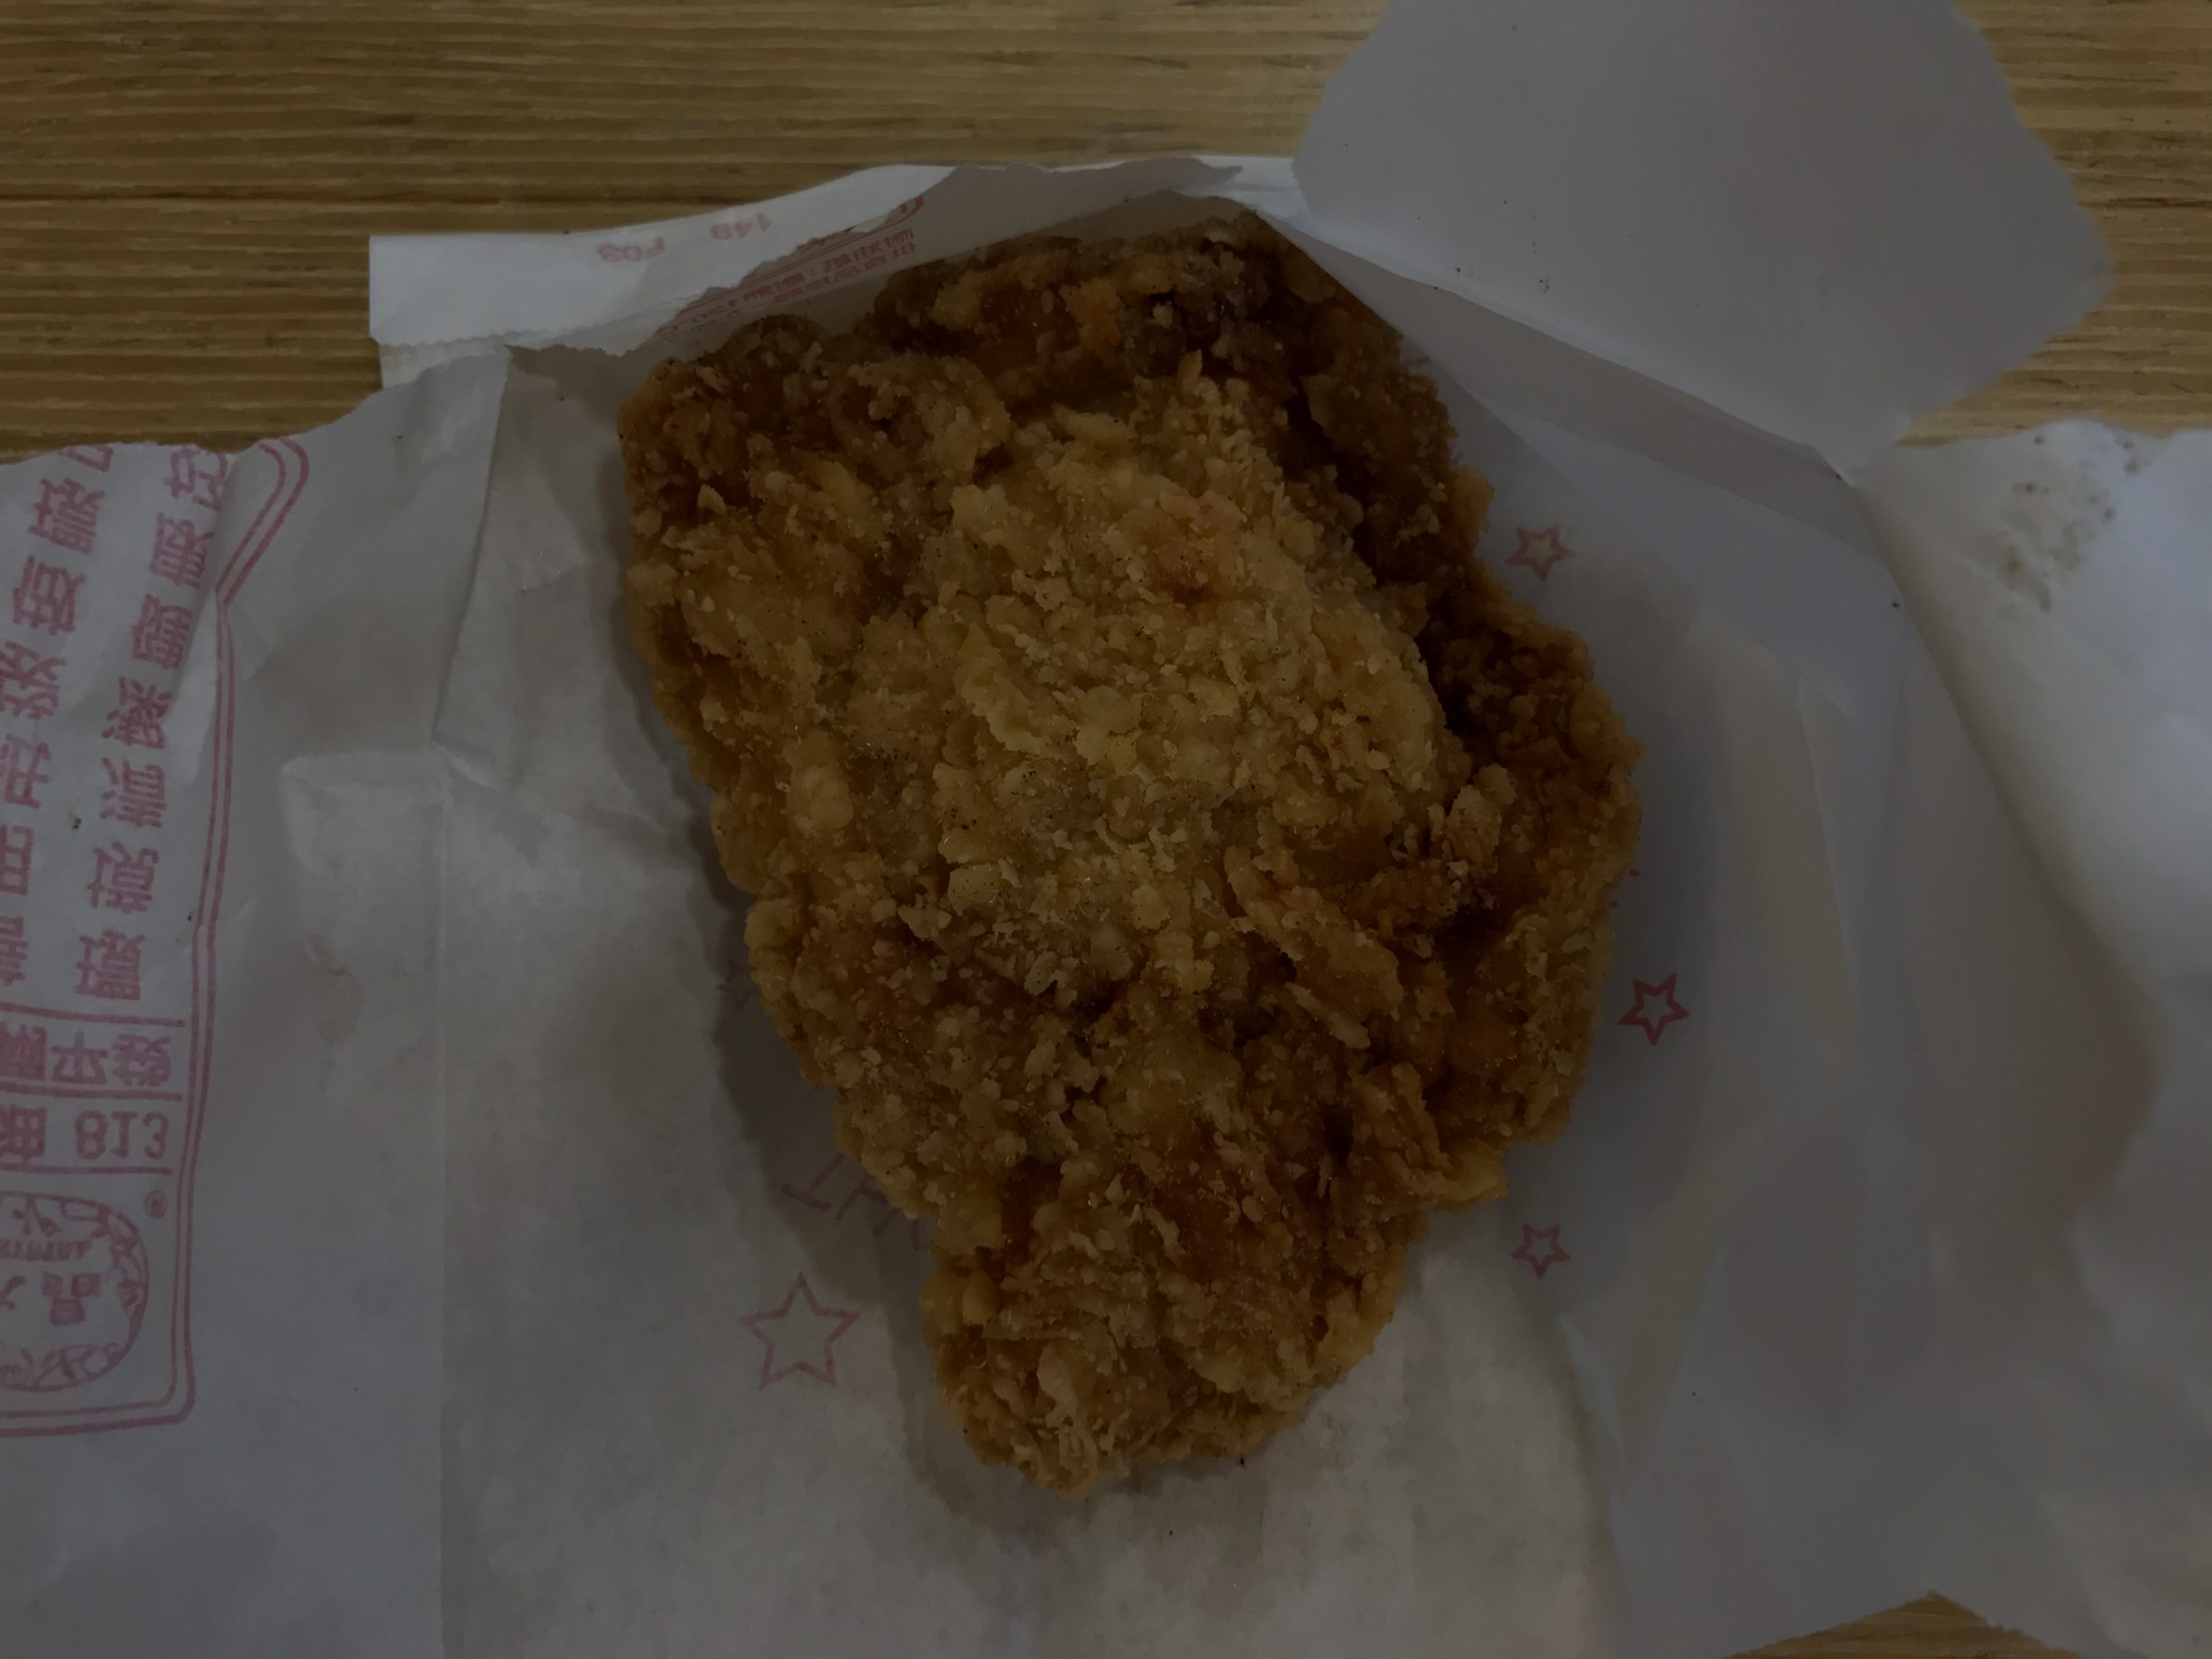fried_chicken: (610, 206, 1639, 1490)
